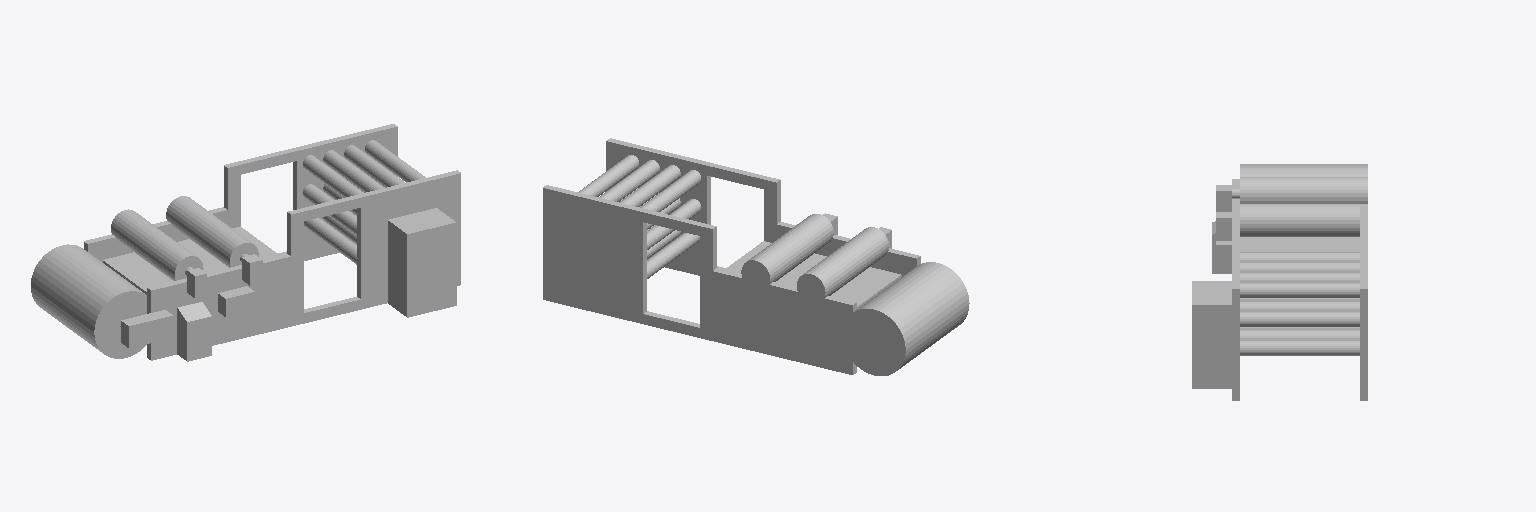
Rendered from Paper machine.obj.
3 renders of one model, left to right at view 1: azimuth 30°, elevation 25°; view 2: azimuth 150°, elevation 25°; view 3: azimuth 270°, elevation 25°, orthographic.
Parts seen in each view (by area): view 1: mesh_5, mesh_3, mesh_19, mesh_4, mesh_2, mesh_1, mesh_0, mesh_22, mesh_8, mesh_9, mesh_7, mesh_10 (+5 smaller); view 2: mesh_4, mesh_3, mesh_5, mesh_1, mesh_2, mesh_0, mesh_18, mesh_8, mesh_10, mesh_7, mesh_9, mesh_17; view 3: mesh_19, mesh_2, mesh_1, mesh_5, mesh_10, mesh_13, mesh_16, mesh_0, mesh_3, mesh_4, mesh_7, mesh_8 (+3 smaller).
Boxes of the visible parts, <box> form: mesh_5: <box>147,170,460,361</box>; mesh_3: <box>31,244,146,358</box>; mesh_19: <box>388,208,456,317</box>; mesh_4: <box>84,124,397,262</box>; mesh_2: <box>166,196,258,267</box>; mesh_1: <box>111,209,203,280</box>; mesh_0: <box>103,226,279,294</box>; mesh_22: <box>121,310,172,347</box>; mesh_8: <box>323,150,384,192</box>; mesh_9: <box>344,145,404,187</box>; mesh_7: <box>303,155,363,197</box>; mesh_10: <box>365,140,425,182</box>; mesh_4: <box>543,185,856,374</box>; mesh_3: <box>843,262,969,375</box>; mesh_5: <box>606,138,920,276</box>; mesh_1: <box>797,227,888,304</box>; mesh_2: <box>741,214,833,290</box>; mesh_0: <box>725,241,901,308</box>; mesh_18: <box>624,232,699,288</box>; mesh_8: <box>619,165,680,206</box>; mesh_10: <box>578,155,638,196</box>; mesh_7: <box>640,170,700,211</box>; mesh_9: <box>599,160,659,201</box>; mesh_17: <box>628,199,700,249</box>; mesh_19: <box>1192,281,1231,388</box>; mesh_2: <box>1240,204,1367,236</box>; mesh_1: <box>1240,177,1367,203</box>; mesh_5: <box>1212,179,1239,400</box>; mesh_10: <box>1240,282,1359,297</box>; mesh_13: <box>1240,311,1359,326</box>; mesh_16: <box>1240,340,1359,355</box>; mesh_0: <box>1240,237,1359,251</box>; mesh_3: <box>1240,164,1367,176</box>; mesh_4: <box>1360,206,1367,400</box>; mesh_7: <box>1240,252,1359,261</box>; mesh_8: <box>1240,262,1359,271</box>.
Bounding box in the file's own units: 526 × 155 × 220.